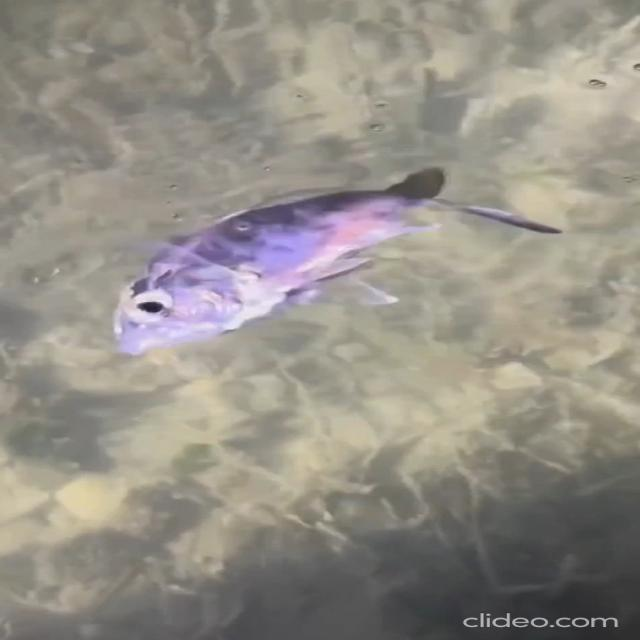fish: (82, 170, 565, 356)
